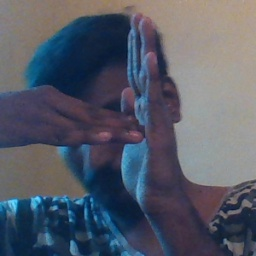Z: (60, 11, 179, 203)
